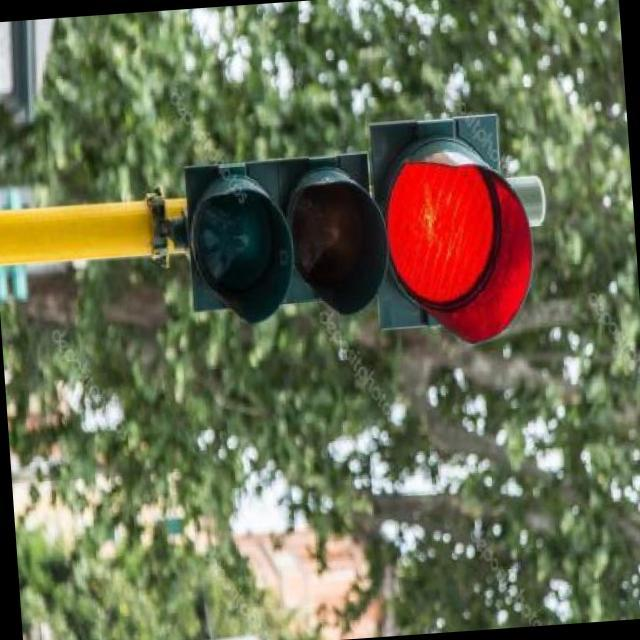red: (386, 153, 531, 344)
